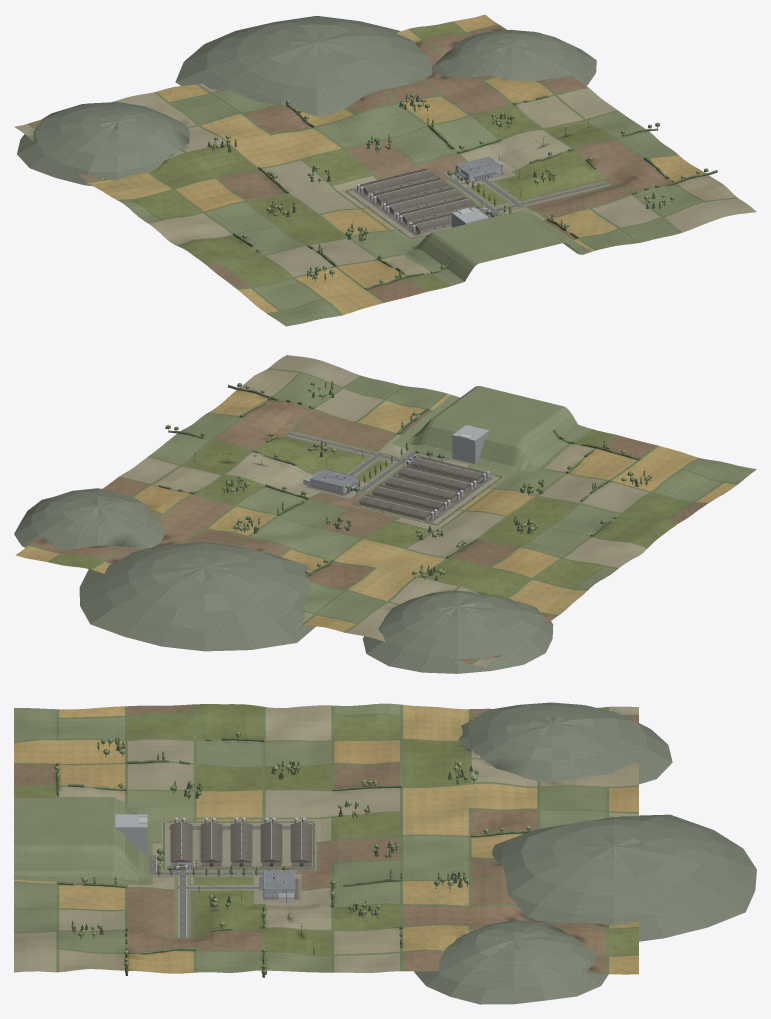
The model's file is terrace_eggs.glb.
The picture shows the model from 3 angles, top to bottom: view 1: azimuth 30°, elevation 25°; view 2: azimuth 150°, elevation 25°; view 3: azimuth 270°, elevation 25°; orthographic projection. The views are drawn at different scales.
Parts seen in each view (by area): view 1: TERRAIN_EGGS, HILLS_EGGS, BUILDING_EGGS_FARM_2345_ROOF, LAND_EGGS_TREES, LAND_EGGS_HEDGEROWS, ROAD_EGGS, BUILDING_EGGS_FARM_ROW, PACKING_EGGS_CENTER; view 2: TERRAIN_EGGS, HILLS_EGGS, LAND_EGGS_TREES, BUILDING_EGGS_FARM_2345_ROOF, LAND_EGGS_HEDGEROWS, ROAD_EGGS, TERRACE_PLINTH, BUILDING_EGGS_FARM_ROW, PACKING_EGGS_CENTER, ROOF_EGGS; view 3: TERRAIN_EGGS, HILLS_EGGS, BUILDING_EGGS_FARM_2345_ROOF, LAND_EGGS_TREES, LAND_EGGS_HEDGEROWS, ROAD_EGGS, ROOF_EGGS, TERRACE_PLINTH, PACKING_EGGS_CENTER.
Boxes of the visible parts, left/top/right/bottom form: TERRAIN_EGGS: left=14, top=14, right=756, bottom=326; HILLS_EGGS: left=17, top=16, right=596, bottom=186; BUILDING_EGGS_FARM_2345_ROOF: left=360, top=168, right=473, bottom=220; LAND_EGGS_TREES: left=207, top=93, right=708, bottom=283; LAND_EGGS_HEDGEROWS: left=233, top=95, right=717, bottom=289; ROAD_EGGS: left=448, top=177, right=609, bottom=217; BUILDING_EGGS_FARM_ROW: left=363, top=176, right=472, bottom=224; PACKING_EGGS_CENTER: left=455, top=157, right=502, bottom=181; TERRAIN_EGGS: left=15, top=355, right=756, bottom=667; HILLS_EGGS: left=14, top=488, right=553, bottom=673; LAND_EGGS_TREES: left=165, top=380, right=652, bottom=580; BUILDING_EGGS_FARM_2345_ROOF: left=359, top=466, right=473, bottom=517; LAND_EGGS_HEDGEROWS: left=158, top=385, right=639, bottom=576; ROAD_EGGS: left=287, top=432, right=449, bottom=493; TERRACE_PLINTH: left=452, top=425, right=489, bottom=463; BUILDING_EGGS_FARM_ROW: left=359, top=473, right=469, bottom=520; PACKING_EGGS_CENTER: left=310, top=469, right=356, bottom=493; ROOF_EGGS: left=411, top=456, right=486, bottom=479; TERRAIN_EGGS: left=14, top=703, right=638, bottom=974; HILLS_EGGS: left=414, top=702, right=756, bottom=1004; BUILDING_EGGS_FARM_2345_ROOF: left=200, top=822, right=312, bottom=862; LAND_EGGS_TREES: left=55, top=731, right=530, bottom=977; LAND_EGGS_HEDGEROWS: left=56, top=737, right=532, bottom=977; ROAD_EGGS: left=149, top=855, right=263, bottom=937; ROOF_EGGS: left=170, top=822, right=192, bottom=862; TERRACE_PLINTH: left=115, top=814, right=147, bottom=854; PACKING_EGGS_CENTER: left=264, top=871, right=295, bottom=897.
Bounding box in the file's own units: 569 × 30 × 594.
Materials: 54 (35 with a texture image).
